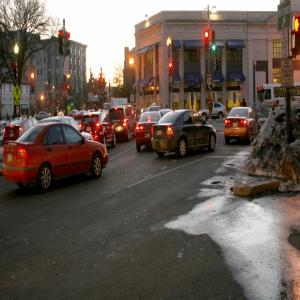Vehicle-registration-plate: (8, 154, 13, 162), (157, 131, 163, 136), (233, 123, 238, 128), (146, 133, 150, 139), (87, 128, 92, 132), (115, 123, 118, 126)
